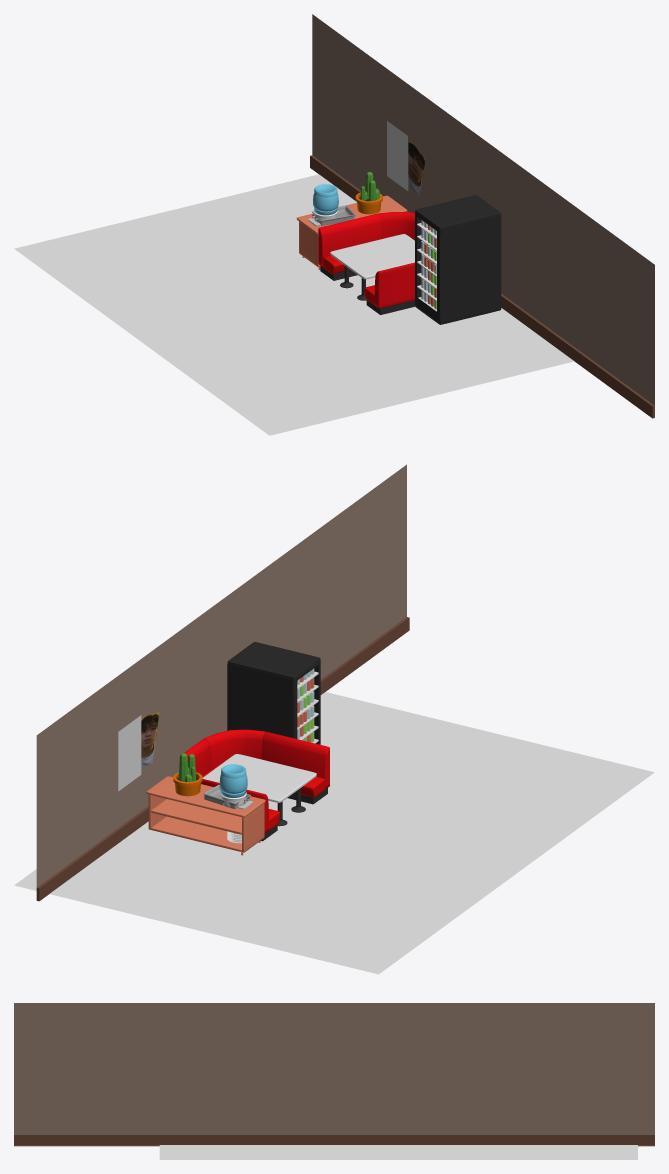
The model's file is couch.fbx.
3 views of the same model, one above another, from view 1: azimuth 30°, elevation 25°; view 2: azimuth 150°, elevation 25°; view 3: azimuth 270°, elevation 25° (orthographic). The views are drawn at different scales.
Parts seen in each view (by area): view 1: Plane, Plane.005, Cube.002, Plane.004, Cube, Plane.001, Plane.003, Cube.004, Plane.008, Plane.000, Cylinder.002, Plane.007; view 2: Plane, Plane.005, Cube.002, Cube.004, Plane.004, Plane.003, Cube, Plane.002, Plane.008, Cylinder.002, Plane.007; view 3: Plane.005, Plane, Plane.004.
Boxes of the visible parts, x1=… form: Plane: x1=14, y1=174, x2=574, y2=435; Plane.005: x1=312, y1=14, x2=654, y2=405; Cube.002: x1=415, y1=195, x2=501, y2=324; Plane.004: x1=310, y1=155, x2=654, y2=418; Cube: x1=330, y1=234, x2=414, y2=279; Plane.001: x1=318, y1=213, x2=381, y2=280; Plane.003: x1=364, y1=262, x2=415, y2=314; Cube.004: x1=296, y1=195, x2=407, y2=269; Plane.008: x1=387, y1=121, x2=408, y2=190; Plane.000: x1=378, y1=212, x2=414, y2=240; Cylinder.002: x1=313, y1=184, x2=338, y2=215; Plane.007: x1=408, y1=138, x2=425, y2=196; Plane: x1=14, y1=692, x2=654, y2=974; Plane.005: x1=36, y1=464, x2=406, y2=887; Cube.002: x1=227, y1=642, x2=320, y2=744; Cube.004: x1=146, y1=776, x2=265, y2=855; Plane.004: x1=36, y1=617, x2=409, y2=901; Plane.003: x1=261, y1=731, x2=329, y2=804; Cube: x1=202, y1=754, x2=316, y2=802; Plane.002: x1=204, y1=729, x2=264, y2=769; Plane.008: x1=118, y1=715, x2=141, y2=791; Cylinder.002: x1=219, y1=764, x2=247, y2=797; Plane.007: x1=141, y1=712, x2=159, y2=766; Plane.005: x1=14, y1=1003, x2=654, y2=1134; Plane: x1=159, y1=1145, x2=637, y2=1159; Plane.004: x1=14, y1=1135, x2=654, y2=1146.
Size of the model in its own units: 3388 by 1475 by 5953.
